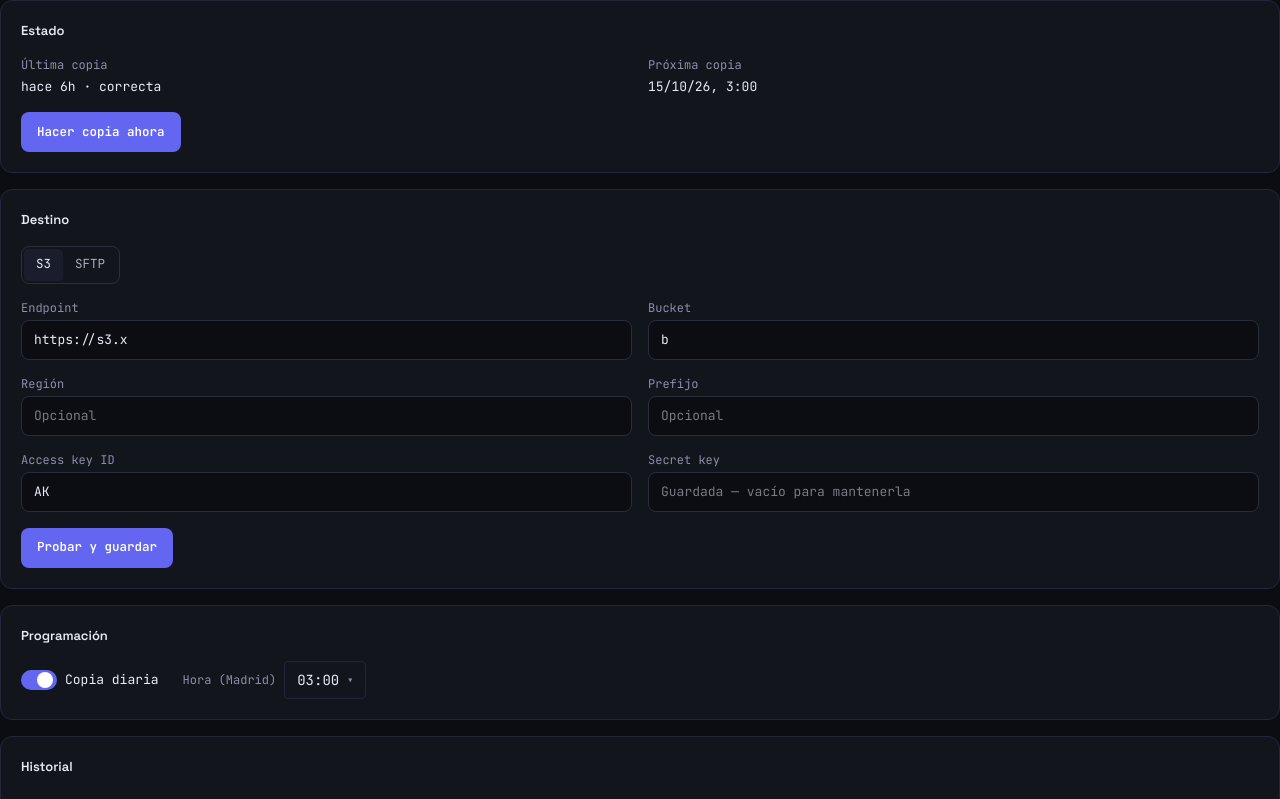
Test: ConfiguracionBackups › un error al lanzar la copia se muestra
The image size is (1280, 799).
Click the button "Hacer copia ahora" at (101,132), box [21,112,180,152]
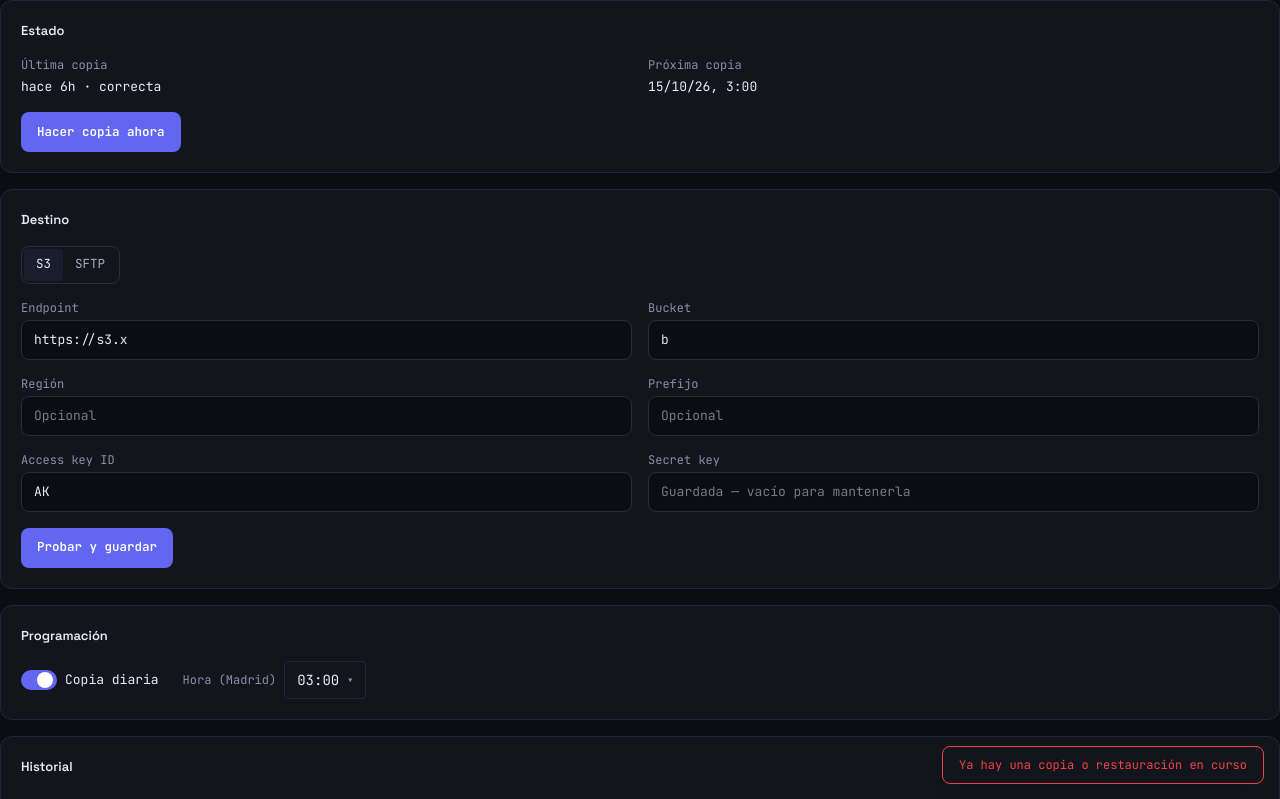
Result: the text "Ya hay una copia o restauración en curso" is shown at [942,746,1264,784]
